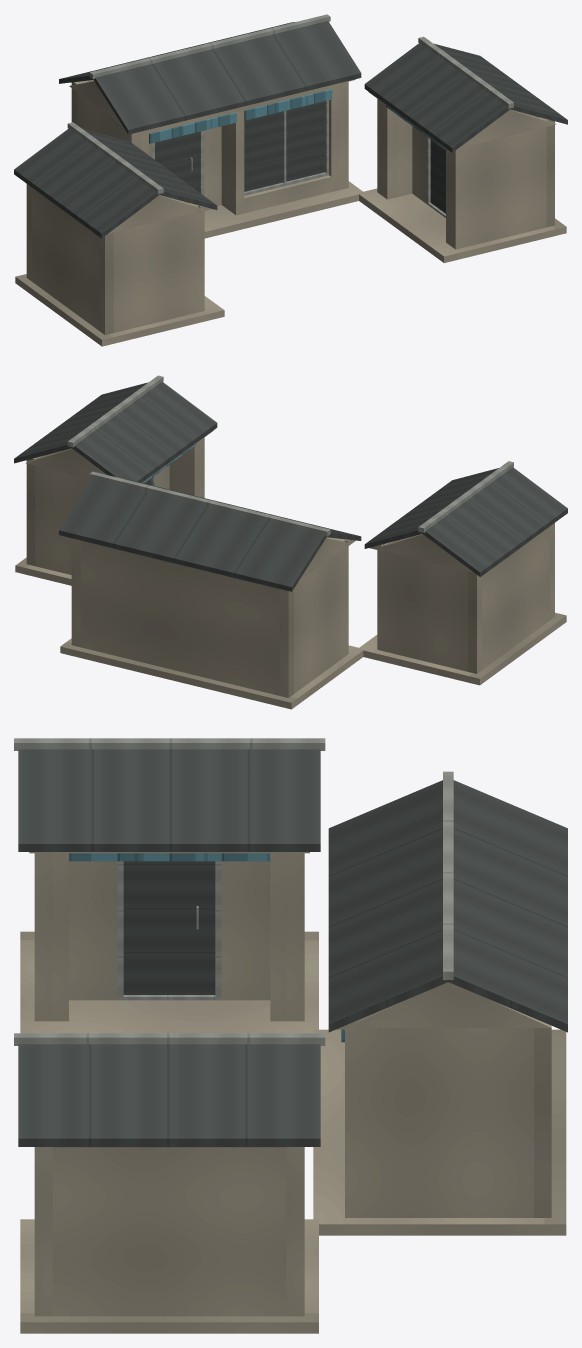
File: ulaanbaatar.glb
3 views of the same model, one above another, from view 1: azimuth 30°, elevation 25°; view 2: azimuth 150°, elevation 25°; view 3: azimuth 270°, elevation 25° (orthographic). The views are drawn at different scales.
Visible parts, largest first — view 1: ulaanbaatar; view 2: ulaanbaatar; view 3: ulaanbaatar.
Boxes of the visible parts, <box> form: ulaanbaatar: <box>14,14,567,346</box>; ulaanbaatar: <box>14,375,567,709</box>; ulaanbaatar: <box>14,738,567,1333</box>.
Bounding box in the file's own units: 8.6 × 2.72 × 5.13.
1 material, 1 textured.
